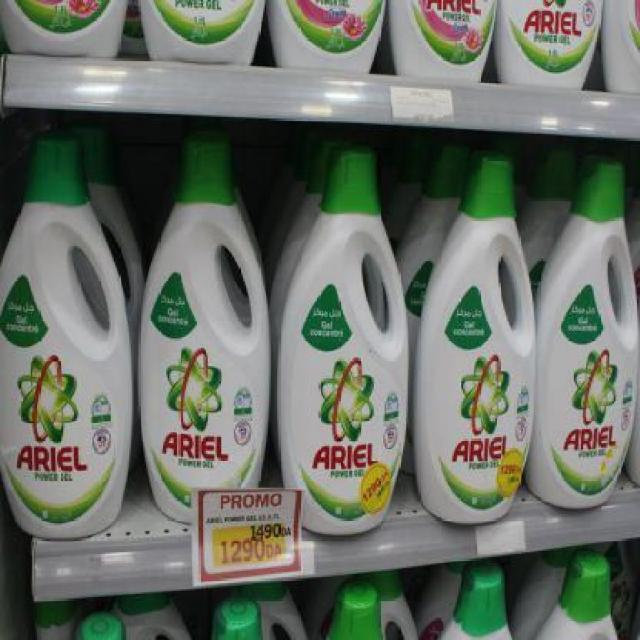Detergent: (0, 129, 138, 549), (135, 125, 268, 518), (409, 152, 546, 518), (283, 142, 406, 528), (535, 156, 640, 502)
